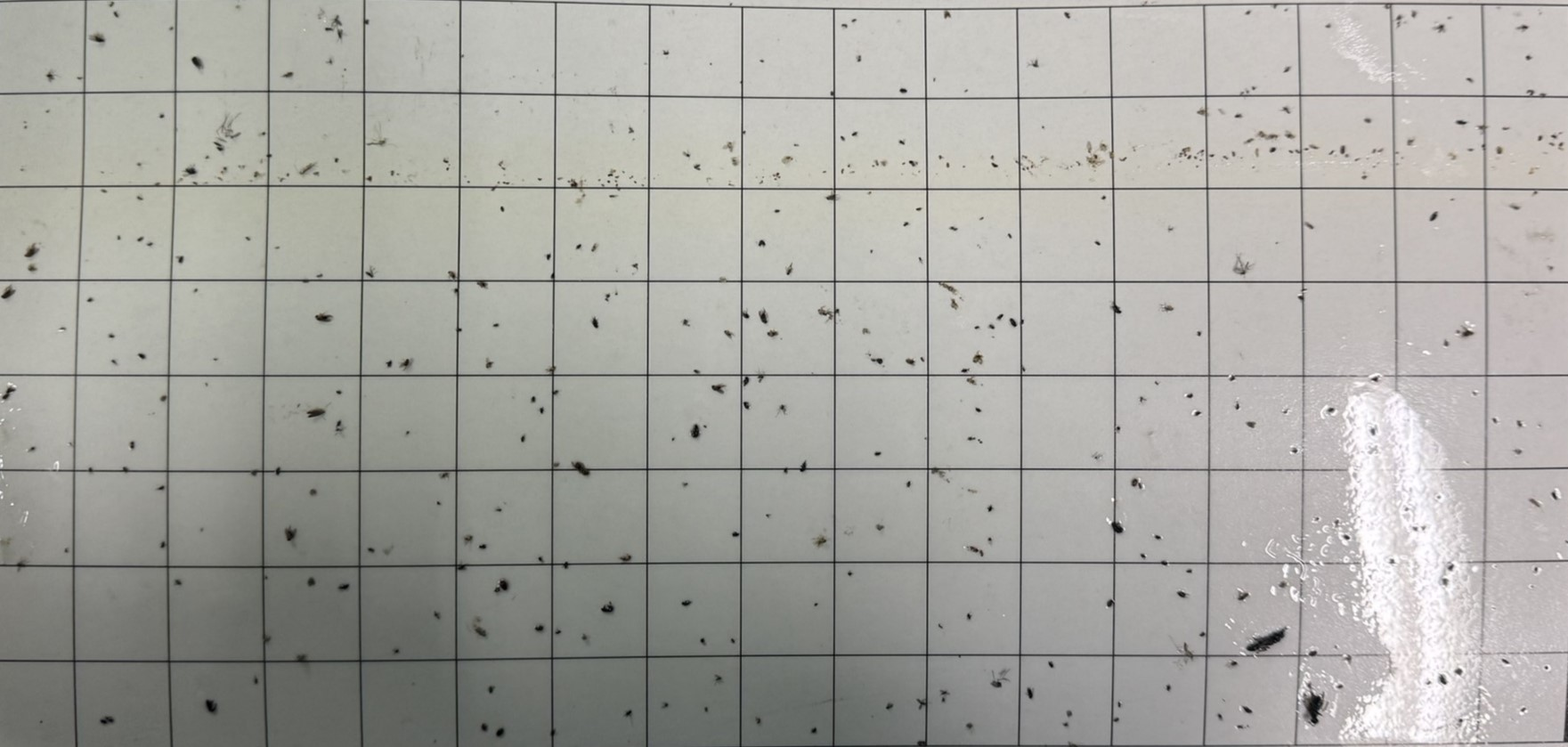test: (1300, 683, 1332, 728), (1245, 624, 1291, 655), (366, 124, 388, 150), (1232, 252, 1254, 277), (1179, 641, 1197, 662), (297, 161, 318, 177), (23, 240, 41, 258), (1, 283, 18, 301), (88, 31, 107, 46), (573, 461, 592, 476), (1, 386, 17, 403), (1110, 518, 1125, 535), (306, 406, 327, 418), (709, 382, 728, 395), (315, 312, 335, 324), (283, 526, 298, 542), (204, 698, 219, 714), (757, 307, 770, 325), (14, 558, 28, 574), (1432, 21, 1448, 35), (190, 56, 205, 70), (916, 697, 930, 712), (1461, 325, 1476, 339), (400, 356, 414, 370), (689, 423, 701, 439), (814, 535, 828, 548), (724, 138, 737, 152), (1529, 496, 1543, 509), (183, 165, 198, 177), (476, 278, 491, 290), (473, 626, 488, 638), (825, 191, 840, 203), (600, 603, 616, 614), (44, 69, 57, 82), (1110, 303, 1123, 316), (364, 266, 376, 280), (619, 553, 633, 565), (1236, 591, 1250, 603), (990, 679, 1005, 690), (973, 350, 984, 365), (591, 315, 601, 331), (213, 140, 225, 153), (446, 269, 458, 282), (498, 579, 510, 592), (681, 597, 694, 609), (1438, 673, 1450, 686), (281, 69, 295, 80), (100, 715, 114, 726), (1160, 302, 1174, 313), (1455, 117, 1469, 128), (1105, 597, 1117, 609), (1241, 703, 1253, 715), (1428, 210, 1440, 222), (333, 14, 344, 27), (1025, 687, 1036, 700), (723, 328, 736, 339), (784, 263, 795, 276), (766, 328, 779, 339), (949, 298, 960, 311), (1516, 23, 1530, 33), (336, 26, 345, 41), (800, 458, 809, 473), (26, 263, 38, 274), (455, 562, 467, 573), (1177, 589, 1189, 600), (1304, 220, 1316, 231), (1196, 107, 1208, 118), (1549, 490, 1560, 502), (497, 160, 508, 172), (485, 357, 495, 370), (337, 582, 351, 591), (870, 357, 884, 366), (966, 375, 977, 386), (1129, 477, 1140, 488), (1029, 58, 1040, 69), (176, 253, 186, 265), (295, 653, 307, 663), (494, 727, 506, 737), (968, 544, 980, 554), (1245, 419, 1257, 429), (943, 9, 953, 21), (1281, 105, 1293, 115), (1526, 87, 1536, 99), (1277, 579, 1289, 589), (1343, 652, 1353, 664), (782, 155, 794, 165), (917, 738, 930, 747), (1509, 203, 1522, 212), (1267, 132, 1280, 141), (309, 487, 319, 498), (306, 576, 316, 587), (464, 533, 475, 543), (433, 610, 443, 621), (740, 310, 751, 320), (757, 238, 767, 249), (1193, 407, 1203, 418), (1513, 446, 1524, 456), (1369, 426, 1379, 437), (1244, 137, 1255, 147), (1285, 131, 1296, 141), (1256, 129, 1266, 140), (274, 467, 283, 479), (546, 364, 558, 373), (1230, 657, 1239, 669), (742, 376, 751, 388), (905, 357, 917, 366), (1008, 316, 1017, 328), (1338, 144, 1347, 156), (1495, 144, 1504, 156), (1062, 720, 1072, 730), (1440, 577, 1450, 587), (631, 261, 641, 271), (324, 24, 335, 33), (252, 169, 261, 180), (385, 358, 394, 369), (440, 471, 451, 480), (480, 722, 489, 733), (624, 709, 635, 718), (781, 465, 790, 476), (884, 702, 895, 711), (778, 403, 787, 414), (757, 372, 766, 383), (1370, 374, 1381, 383), (948, 224, 959, 233), (1453, 666, 1464, 675), (590, 243, 599, 254), (550, 461, 561, 470), (1307, 649, 1319, 657), (604, 292, 612, 304), (136, 234, 145, 244), (157, 484, 166, 494), (494, 585, 503, 595), (261, 635, 271, 644), (809, 726, 819, 735), (965, 721, 975, 730), (986, 504, 995, 514), (905, 480, 914, 490), (742, 400, 751, 410), (996, 312, 1005, 322), (876, 522, 886, 531), (1185, 391, 1195, 400), (990, 161, 1000, 170), (897, 138, 907, 147), (1063, 11, 1073, 20), (1465, 75, 1475, 84), (1283, 65, 1292, 75), (693, 162, 702, 172), (1501, 657, 1510, 667), (1313, 515, 1323, 524), (570, 180, 580, 189), (1549, 132, 1559, 141), (550, 388, 561, 396), (549, 727, 557, 738), (940, 689, 951, 697), (966, 435, 977, 443), (1443, 338, 1451, 349), (366, 174, 375, 183), (86, 296, 95, 305), (138, 352, 147, 361), (110, 358, 119, 367), (159, 394, 168, 403), (251, 469, 260, 478), (455, 325, 464, 334), (562, 561, 571, 570), (715, 674, 724, 683), (580, 633, 589, 642), (874, 449, 883, 458), (1165, 683, 1174, 692), (1113, 715, 1122, 724), (1017, 318, 1026, 327), (899, 86, 908, 95), (1525, 53, 1534, 62), (1244, 8, 1253, 17), (682, 150, 691, 159), (908, 159, 917, 168), (936, 153, 945, 162), (1491, 416, 1500, 425), (1336, 682, 1345, 691), (1419, 523, 1428, 532), (490, 184, 499, 193), (773, 171, 782, 180), (872, 159, 881, 168), (1294, 147, 1303, 156), (1287, 147, 1296, 156), (1311, 143, 1320, 152), (1376, 145, 1385, 154), (99, 187, 109, 195), (550, 271, 558, 281), (534, 624, 544, 632), (731, 530, 741, 538), (755, 716, 763, 726), (1159, 559, 1169, 567), (832, 307, 842, 315), (1234, 401, 1242, 411), (840, 22, 850, 30), (1364, 116, 1374, 124), (1501, 125, 1511, 133), (1411, 10, 1419, 20), (1446, 563, 1454, 573), (1388, 557, 1396, 567), (1282, 406, 1290, 416), (627, 125, 635, 135), (1480, 122, 1488, 132), (129, 440, 136, 451), (252, 675, 259, 686), (960, 367, 971, 374), (1232, 112, 1243, 119), (1536, 133, 1543, 144), (1253, 147, 1260, 158), (153, 180, 161, 189), (146, 240, 155, 248), (86, 464, 94, 473), (174, 579, 182, 588), (367, 546, 376, 554), (452, 287, 461, 295), (495, 506, 503, 515), (479, 542, 487, 551), (59, 325, 68, 333), (393, 646, 401, 655), (487, 685, 495, 694), (662, 701, 671, 709), (764, 511, 772, 520), (1047, 660, 1055, 669), (1199, 630, 1208, 638), (975, 406, 983, 415), (1138, 395, 1147, 403), (1153, 379, 1161, 388), (1291, 447, 1300, 455), (1343, 533, 1351, 542), (1094, 239, 1102, 248), (1269, 145, 1277, 154), (851, 130, 860, 138), (855, 55, 863, 64), (1395, 13, 1403, 22), (1167, 225, 1175, 234), (1516, 419, 1524, 428), (1531, 188, 1540, 196), (1333, 518, 1341, 527), (1471, 389, 1480, 397), (1221, 153, 1229, 162), (880, 159, 888, 168), (327, 57, 334, 67), (121, 465, 128, 475), (160, 540, 167, 550), (301, 278, 311, 285), (938, 622, 945, 632), (1326, 406, 1336, 413), (661, 49, 671, 56), (839, 134, 846, 144), (502, 180, 512, 187), (1481, 141, 1488, 151), (1546, 141, 1556, 148), (108, 1, 116, 9), (44, 107, 52, 115), (316, 272, 324, 280), (537, 555, 545, 563), (575, 243, 583, 251), (555, 628, 563, 636), (846, 570, 854, 578), (813, 600, 821, 608), (1154, 533, 1162, 541), (988, 323, 996, 331), (973, 324, 981, 332), (1020, 365, 1028, 373), (1229, 374, 1237, 382), (902, 220, 910, 228), (1533, 565, 1541, 573), (1425, 678, 1433, 686), (442, 157, 450, 165), (606, 171, 614, 179), (1407, 138, 1415, 146), (1250, 84, 1258, 92), (1272, 2, 1280, 10), (1383, 2, 1391, 10), (112, 10, 119, 19), (361, 18, 370, 25), (244, 234, 251, 243), (499, 204, 506, 213), (966, 612, 973, 621), (1140, 552, 1147, 561), (1186, 567, 1193, 576), (1116, 700, 1123, 709), (1066, 709, 1073, 718), (1196, 329, 1203, 338), (1328, 149, 1337, 156), (839, 167, 846, 176), (1231, 150, 1238, 159), (1217, 712, 1224, 721), (1519, 706, 1528, 713), (1412, 524, 1419, 533), (609, 192, 618, 199), (1353, 156, 1362, 163), (531, 394, 537, 404), (539, 406, 545, 416), (546, 251, 552, 261), (389, 168, 395, 178), (76, 74, 83, 82), (136, 195, 144, 202), (108, 333, 116, 340), (336, 420, 343, 428), (28, 445, 36, 452), (492, 322, 500, 329), (682, 481, 690, 488), (987, 536, 995, 543), (980, 550, 987, 558), (692, 368, 700, 375), (1007, 232, 1014, 240), (773, 207, 780, 215), (1101, 193, 1108, 201), (1298, 295, 1306, 302), (851, 17, 859, 24), (931, 76, 938, 84), (1208, 152, 1216, 159), (1543, 663, 1550, 671), (1237, 723, 1244, 731), (1548, 264, 1555, 272), (313, 170, 321, 177), (758, 179, 766, 186), (1361, 173, 1369, 180), (1186, 154, 1193, 162), (278, 176, 286, 183), (1075, 159, 1082, 167), (334, 156, 340, 165), (520, 434, 526, 443), (63, 545, 69, 554), (700, 636, 706, 645), (919, 355, 925, 364), (830, 89, 836, 98), (1325, 23, 1334, 29), (1120, 156, 1129, 162), (1239, 89, 1245, 98), (168, 25, 175, 32), (159, 112, 166, 119), (261, 130, 268, 137), (136, 161, 143, 168), (192, 180, 199, 187), (192, 287, 199, 294), (730, 637, 737, 644), (1116, 425, 1123, 432), (915, 206, 922, 213), (741, 128, 748, 135), (979, 215, 986, 222), (1458, 717, 1465, 724), (444, 165, 451, 172), (274, 244, 281, 251), (845, 162, 852, 169), (866, 189, 873, 196), (212, 356, 219, 363), (557, 175, 564, 182), (266, 153, 274, 159), (116, 234, 122, 242), (335, 389, 343, 395), (703, 706, 709, 714), (682, 319, 690, 325), (917, 256, 923, 264), (990, 153, 996, 161), (760, 57, 766, 65), (945, 161, 951, 169), (792, 142, 800, 148), (1539, 92, 1547, 98), (285, 171, 291, 179), (822, 168, 828, 176), (1371, 147, 1377, 155), (1467, 147, 1475, 153), (1093, 152, 1099, 160), (1558, 141, 1564, 149), (1300, 287, 1308, 293), (204, 154, 211, 160), (405, 430, 411, 437), (263, 575, 270, 581), (941, 696, 948, 702), (670, 436, 676, 443), (1138, 484, 1144, 491), (963, 88, 969, 95), (614, 291, 620, 298), (222, 165, 229, 171), (204, 380, 210, 387), (199, 527, 206, 533), (1303, 146, 1310, 152), (1194, 164, 1200, 171), (977, 439, 984, 445), (1446, 15, 1453, 21), (628, 174, 635, 180), (1199, 148, 1205, 155), (1245, 88, 1251, 95), (1449, 197, 1456, 203), (1194, 154, 1199, 162), (436, 500, 442, 506), (703, 424, 709, 430), (869, 248, 875, 254), (1093, 455, 1099, 461), (537, 176, 543, 182), (1283, 7, 1289, 13), (1021, 166, 1027, 172), (38, 719, 45, 724), (961, 163, 966, 170), (901, 160, 906, 167), (1041, 124, 1047, 129), (460, 53, 465, 59), (614, 175, 620, 180), (708, 61, 714, 66), (597, 177, 602, 183), (1029, 164, 1034, 170), (1274, 240, 1279, 246), (640, 182, 645, 188), (23, 124, 28, 129), (601, 183, 606, 188), (958, 653, 963, 658), (466, 179, 471, 184), (1026, 166, 1031, 171), (633, 180, 637, 185), (606, 179, 611, 183), (343, 67, 348, 71), (1167, 162, 1172, 166), (615, 183, 619, 187)
